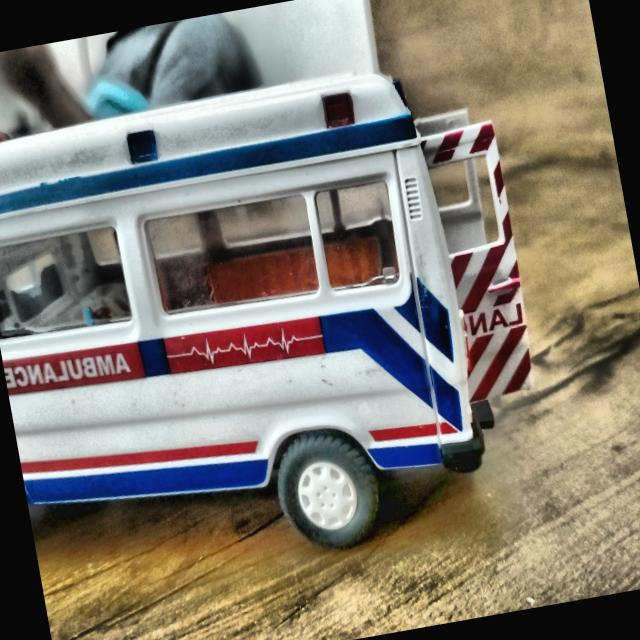Ambulance: (0, 42, 563, 593)
